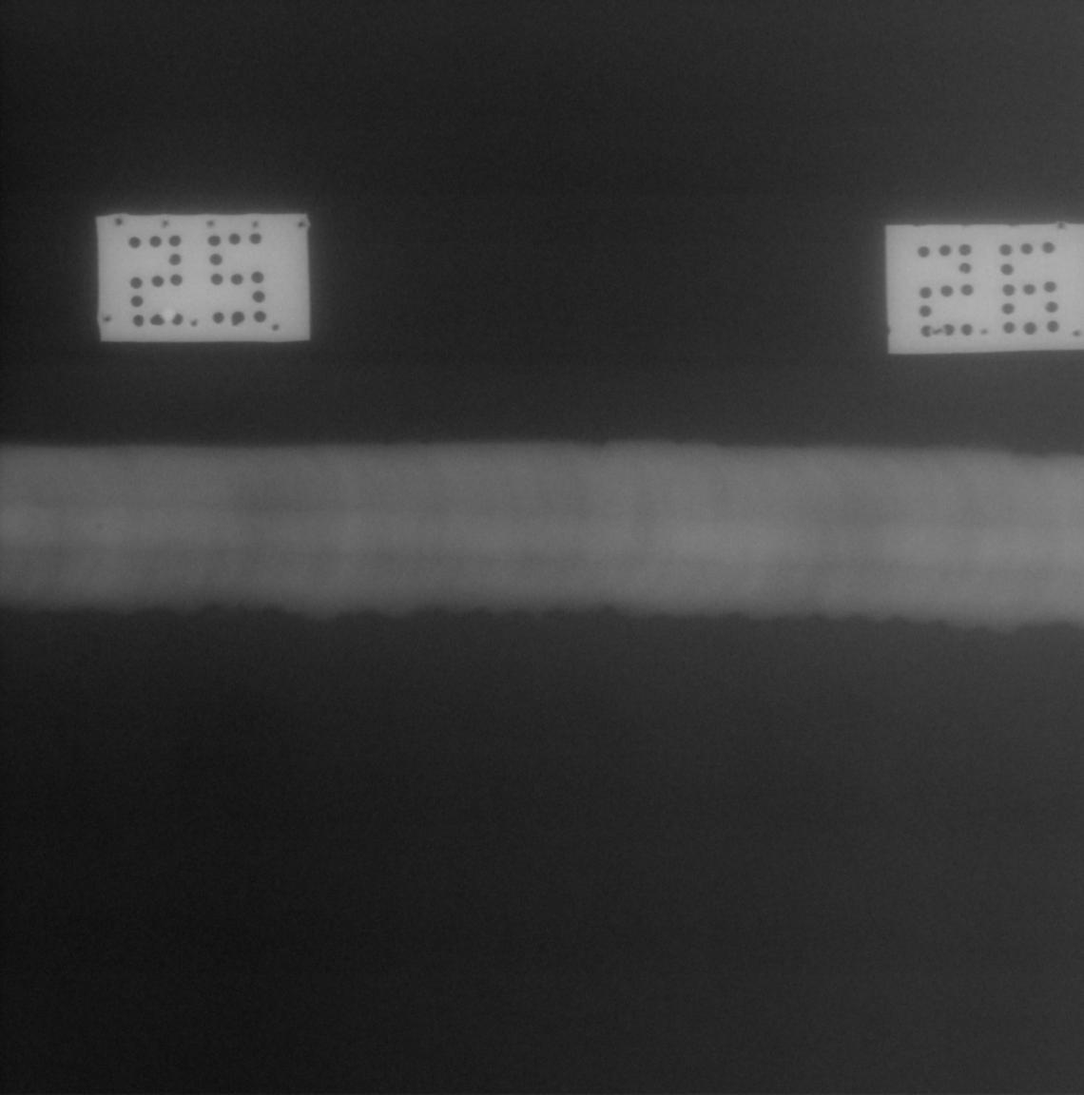Pore/Porosity: (95, 524, 102, 530), (28, 529, 34, 533)
